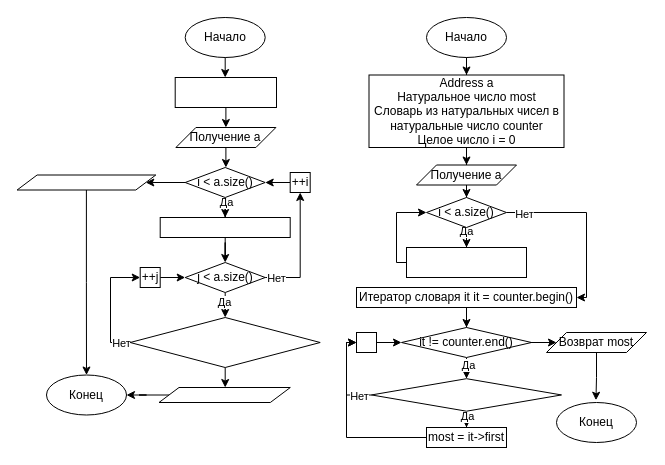
The diagram is 665 pixels wide and 465 high, and some of its shapes have lost their labels. The shapes that lost their labels are listed below. From the top down, each one's centre as x and y in pixels, then its label:
point (225, 92): Address a Целое число i = 0
point (86, 182): Возвращение false
point (224, 227): Целое число j = i + 1
point (466, 262): ++counter[a[i].index] ++i
point (224, 342): a[i].index == a[j].index && a[i].city != a[j].city
point (366, 342): ++it
point (224, 394): Возвращение true
point (466, 394): counter[most] < it->second
